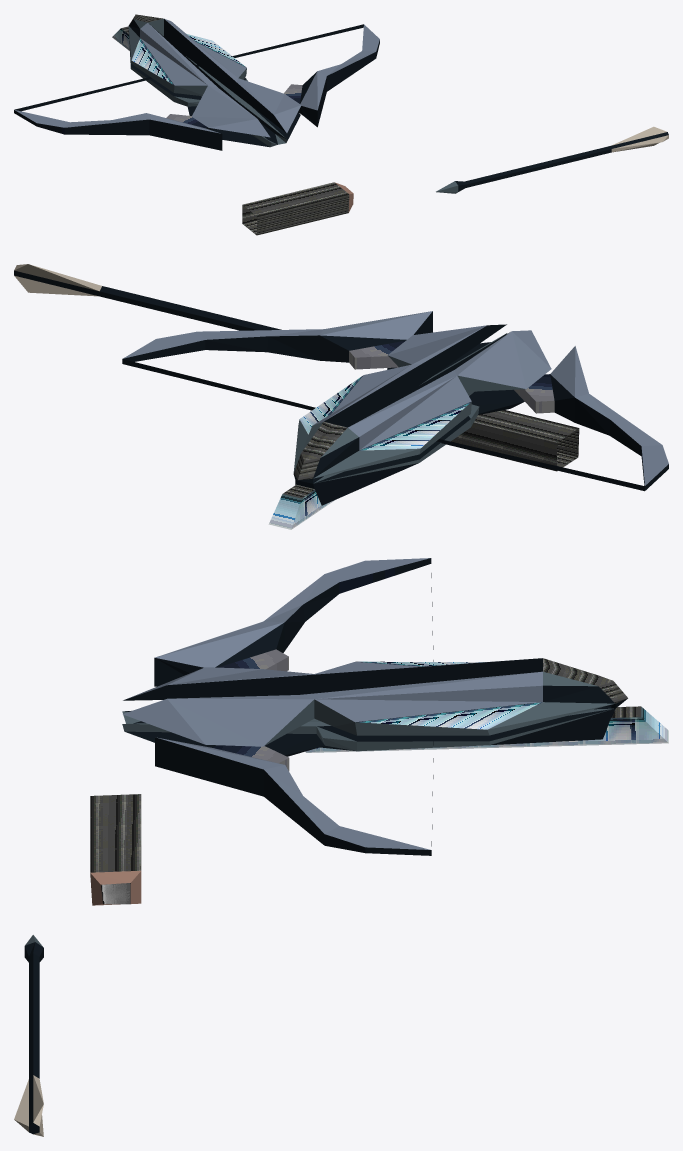
Rendered from 1a-crossbow-fp.glb.
3 views of the same model, one above another, from view 1: azimuth 30°, elevation 25°; view 2: azimuth 150°, elevation 25°; view 3: azimuth 270°, elevation 25° (orthographic). The views are drawn at different scales.
Parts seen in each view (by area): view 1: gun; view 2: gun; view 3: gun.
Part boxes in pixels (x1,y1,x2,y2): gun: (14, 14, 668, 235); gun: (14, 264, 668, 529); gun: (14, 558, 668, 1136).
Bounding box in the file's own units: 597 × 118 × 369.
7 materials, 7 textured.
